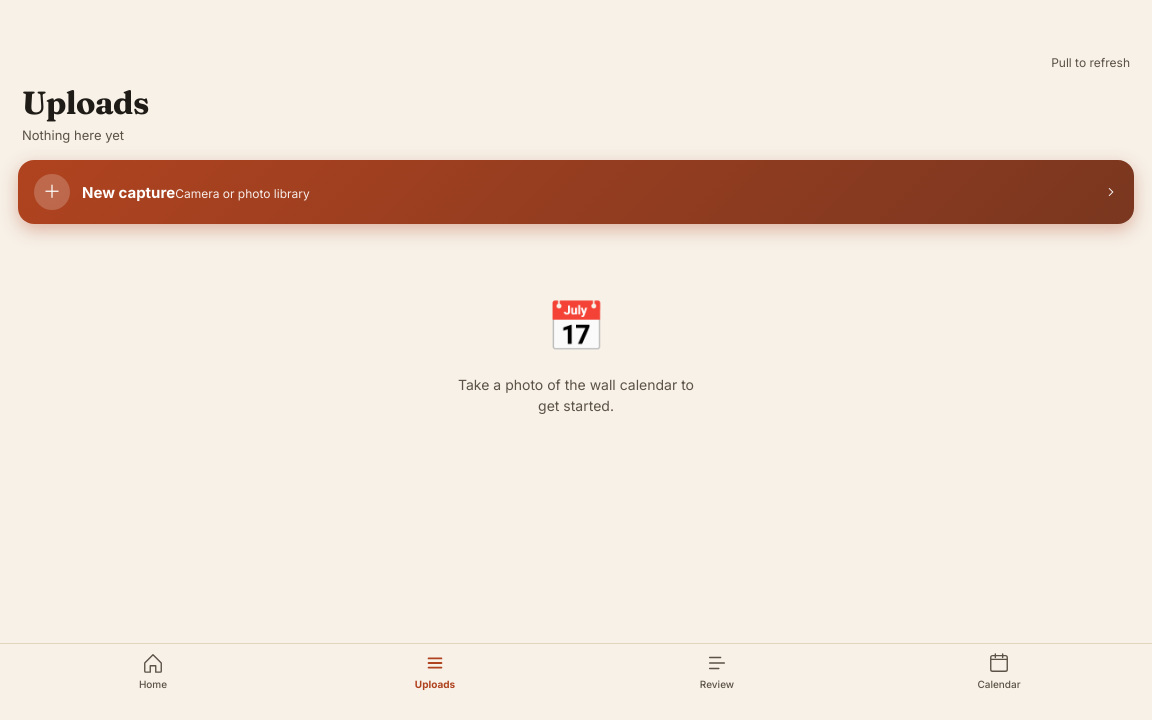
Test: Status route — NewCaptureSheet › tapping "+ New capture" opens the sheet
This screenshot has width=1152, height=720.
Click the button "New capture" at (52, 192), box 18,160 -> 1134,224
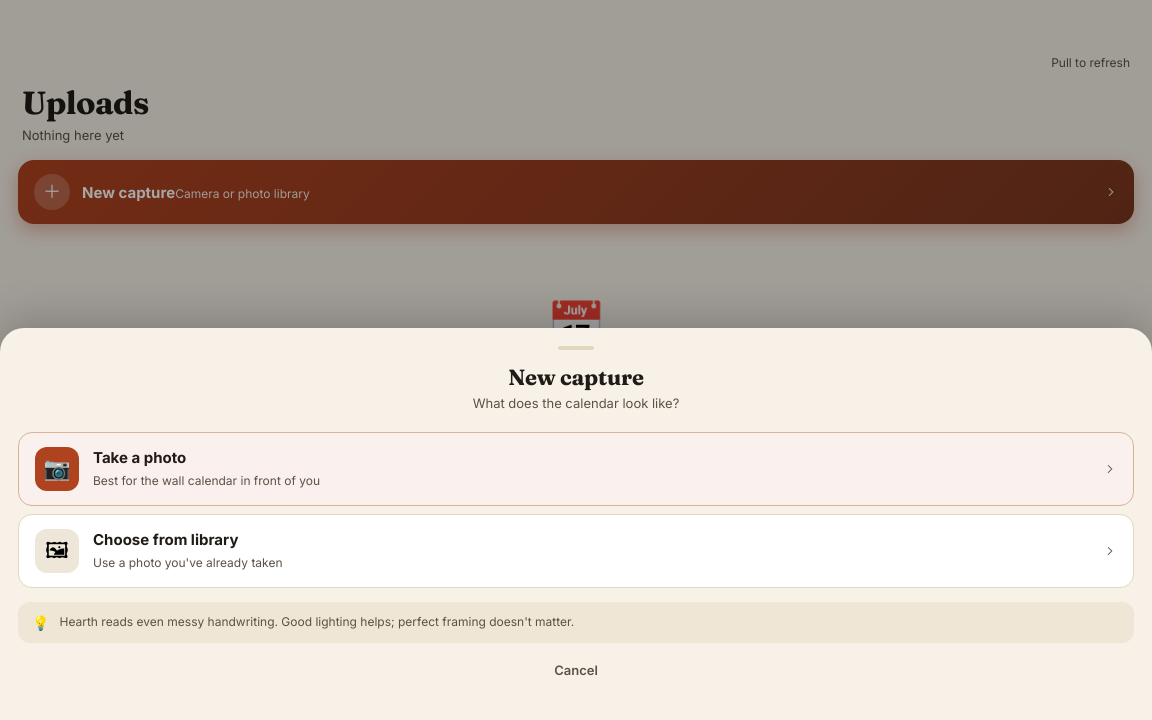
Expected: the dialog is shown, 0,328 -> 1151,719
